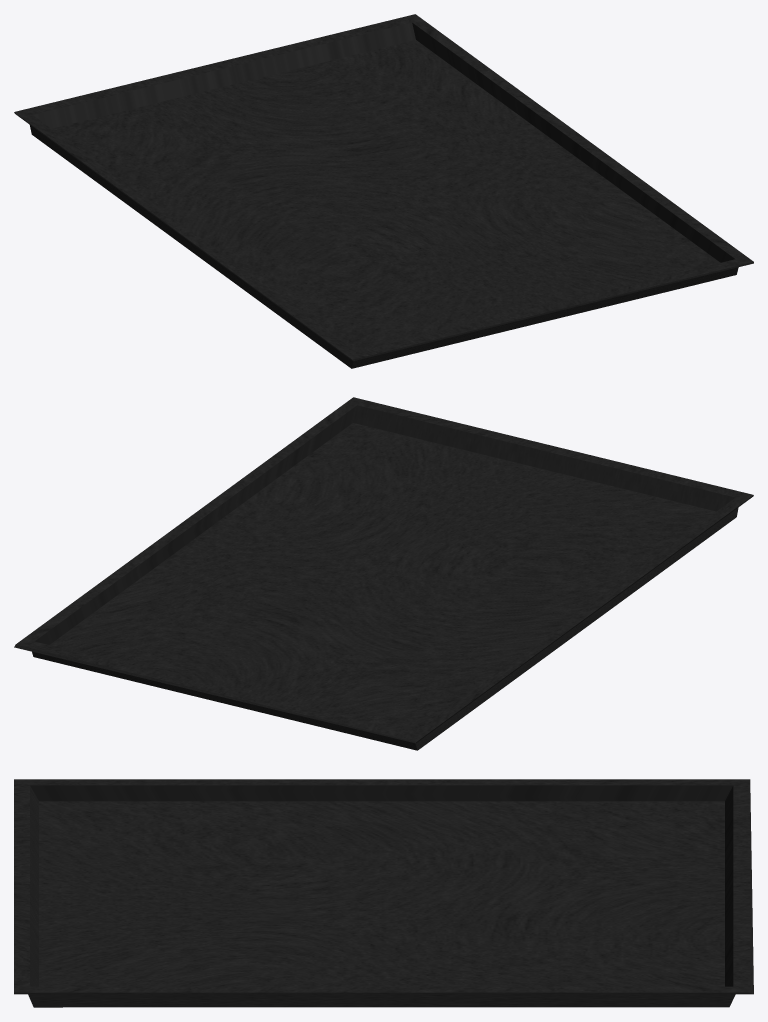
File: tablet.fbx
3 views of the same model, one above another, from view 1: azimuth 30°, elevation 25°; view 2: azimuth 150°, elevation 25°; view 3: azimuth 270°, elevation 25° (orthographic). The views are drawn at different scales.
Visible parts, largest first — view 1: Cube; view 2: Cube; view 3: Cube.
Boxes of the visible parts, bbox=[...] form: Cube: bbox=[14, 14, 753, 368]; Cube: bbox=[14, 397, 753, 750]; Cube: bbox=[14, 779, 753, 1007].
Bounding box in the file's own units: 43.39 × 1.83 × 63.68.
Materials: 1 (1 with a texture image).
